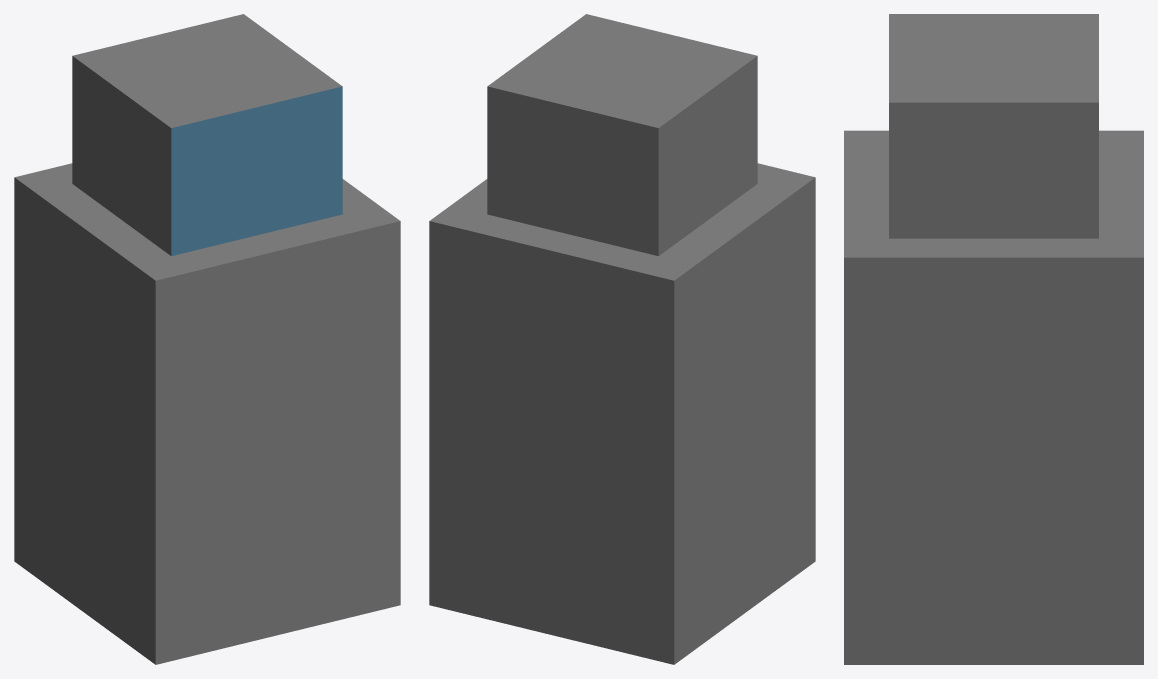
Rendered from Human.fbx.
3 renders of one model, left to right at view 1: azimuth 30°, elevation 25°; view 2: azimuth 150°, elevation 25°; view 3: azimuth 270°, elevation 25°, orthographic. The views are drawn at different scales.
Parts seen in each view (by area): view 1: HumanBody, HumanHead; view 2: HumanBody, HumanHead; view 3: HumanBody, HumanHead.
Boxes of the visible parts, bbox=[...] form: HumanBody: bbox=[14, 163, 400, 664]; HumanHead: bbox=[72, 14, 342, 256]; HumanBody: bbox=[429, 163, 815, 664]; HumanHead: bbox=[487, 14, 757, 256]; HumanBody: bbox=[844, 130, 1143, 664]; HumanHead: bbox=[889, 14, 1098, 238].
Bounding box in the file's own units: 100 × 200 × 100.
